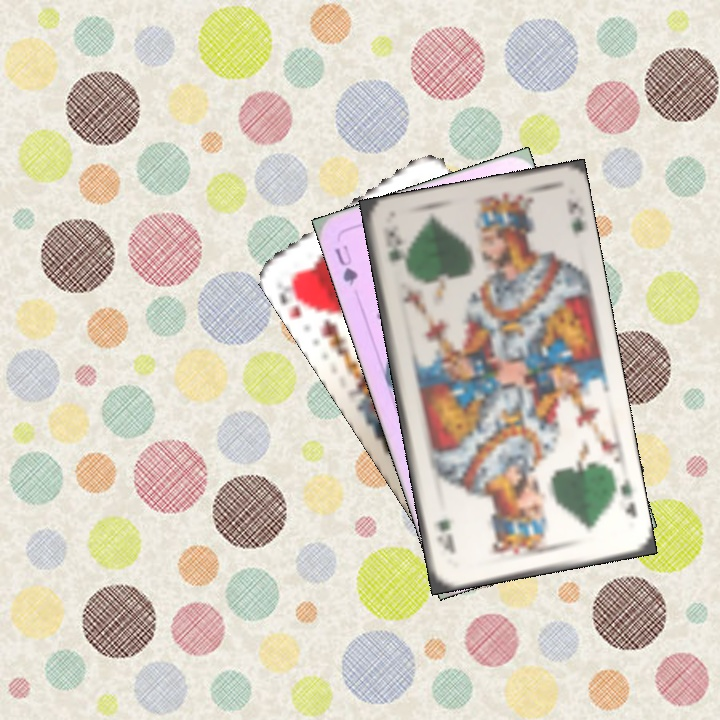GK: (616, 473, 640, 520), (383, 226, 404, 266)
GU: (330, 241, 361, 289)
HK: (275, 274, 315, 322)
